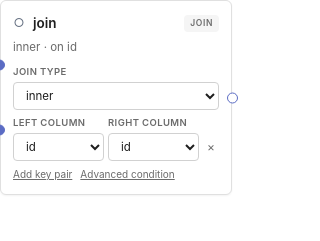
Join card — join types come from the backend spec (UX-05) › lets the last configured pair become an empty local draft
Click the button named "Remove key pair 1" at (211, 147), box [203,133,219,161]
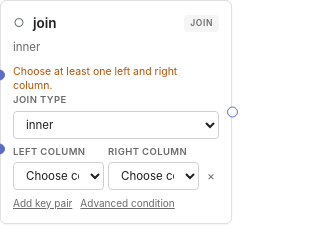
Now the dropdown named "Left key 1" shows "Choose column", box [13,162,104,190]
Now the dropdown named "Right key 1" shows "Choose column", box [108,162,199,190]
